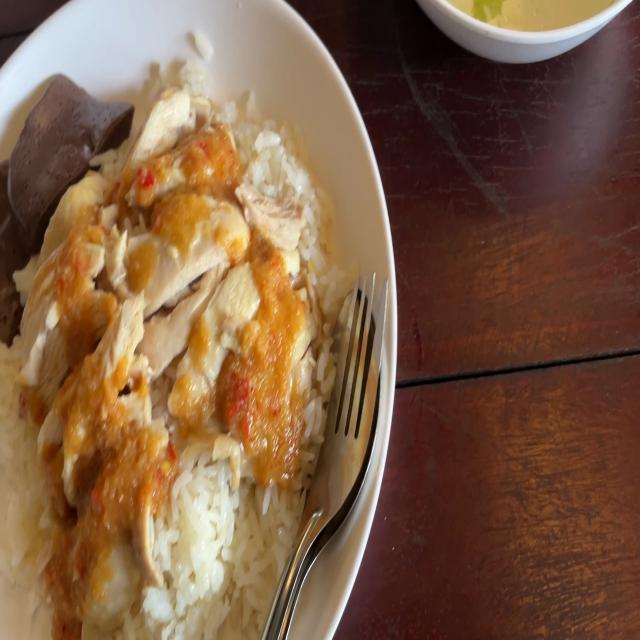boiled_chicken: (47, 124, 274, 561)
boiled_chicken_blood_jelly: (6, 74, 128, 220), (0, 171, 36, 338)
chicken_rice: (0, 36, 337, 640)
